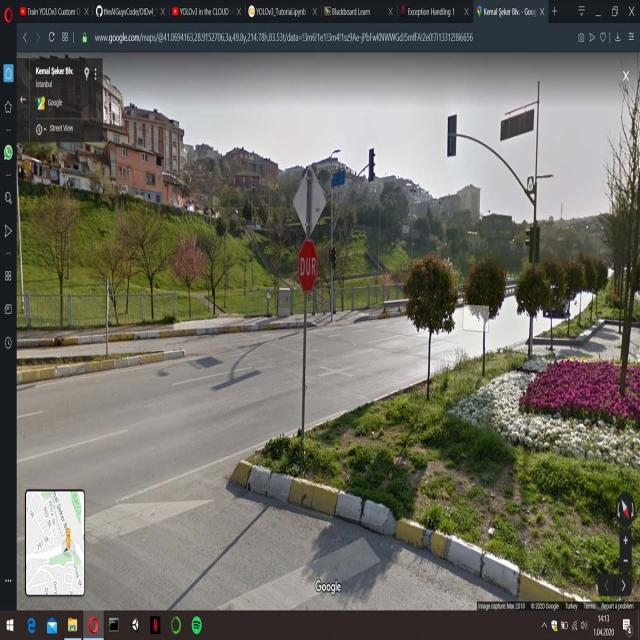dur: (297, 242, 319, 293)
